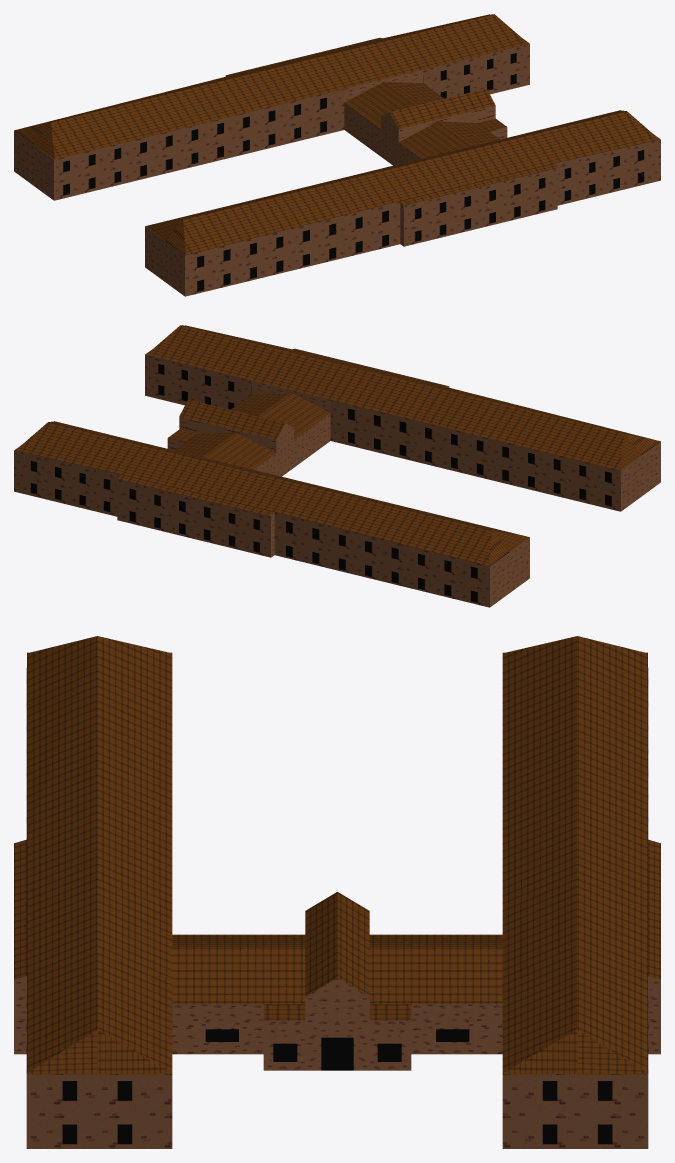
File: mcchesney_origin.fbx
3 renders of one model, top to bottom at view 1: azimuth 30°, elevation 25°; view 2: azimuth 150°, elevation 25°; view 3: azimuth 270°, elevation 25°, orthographic. The views are drawn at different scales.
Parts seen in each view (by area): view 1: McChesney; view 2: McChesney; view 3: McChesney.
Part boxes in pixels (left/top/right/bottom): McChesney: left=14, top=14, right=660, bottom=296; McChesney: left=14, top=325, right=660, bottom=607; McChesney: left=14, top=636, right=660, bottom=1148.
Size of the model in its own units: 738 by 86.95 by 478.
4 materials, 4 textured.
